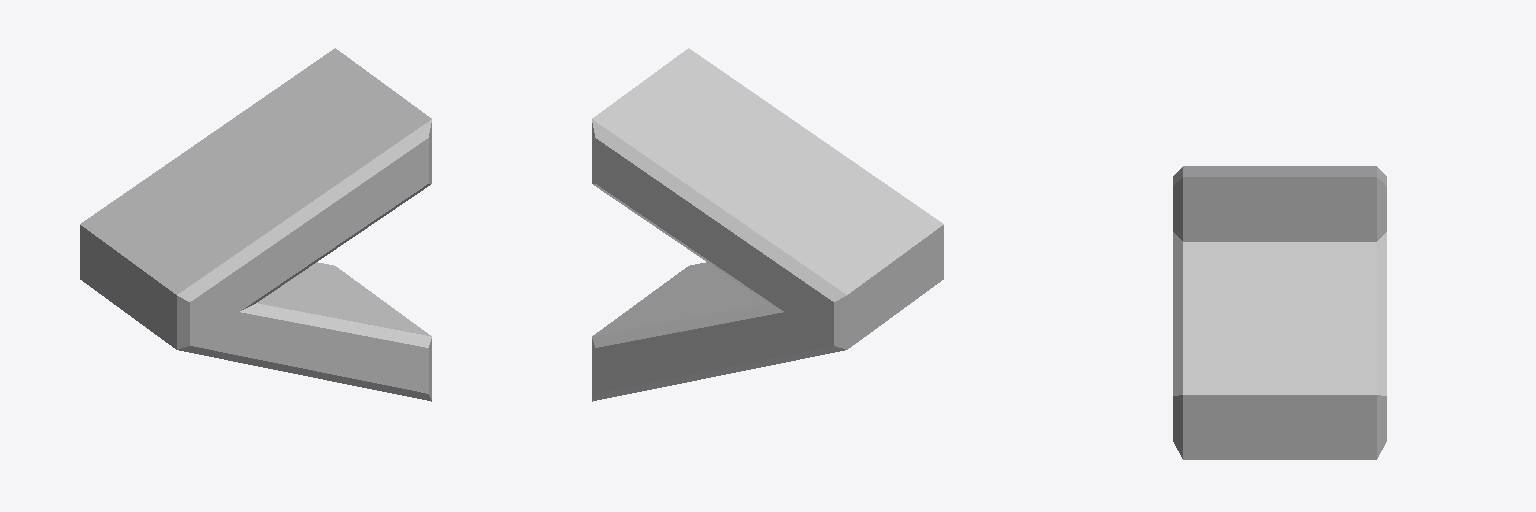
Rendered from back_arrow.obj.
The picture shows the model from 3 angles: view 1: azimuth 30°, elevation 25°; view 2: azimuth 150°, elevation 25°; view 3: azimuth 270°, elevation 25°; orthographic projection.
Visible parts, largest first — view 1: Text; view 2: Text; view 3: Text.
Part boxes in pixels (x1,y1,x2,y2): Text: (80,48,431,401); Text: (592,48,943,401); Text: (1173,166,1386,459).
Size of the model in its own units: 0.5068 by 0.5359 by 0.3663.